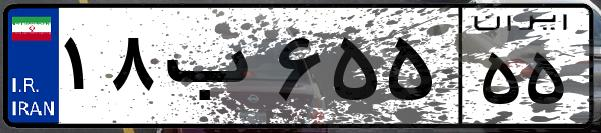1: (57, 26, 110, 100)
5: (385, 28, 445, 110), (330, 28, 385, 110), (475, 38, 525, 113), (525, 38, 570, 115)
6: (270, 28, 330, 110)
8: (110, 28, 158, 98)
ب: (158, 20, 270, 120)
